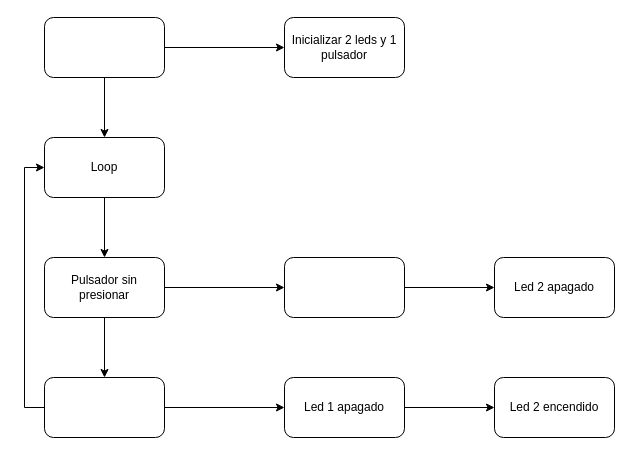
This 632x455 diagram has some shape labels left out. Each missing label, with the box of its shape:
Led 1 encendido: (284, 256, 404, 318)
Pulsador presionado: (44, 376, 164, 438)
Setup: (44, 16, 164, 78)
